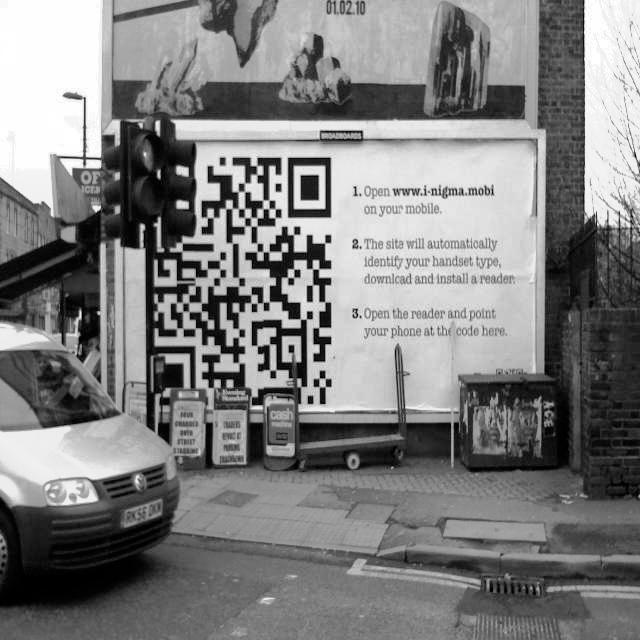qr_code: (154, 157, 332, 404)
